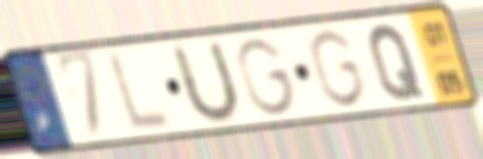7: (52, 47, 107, 147)
G: (233, 35, 300, 118), (305, 26, 370, 111)
L: (105, 48, 177, 135)
Q: (366, 21, 427, 103)
U: (169, 37, 243, 129)
